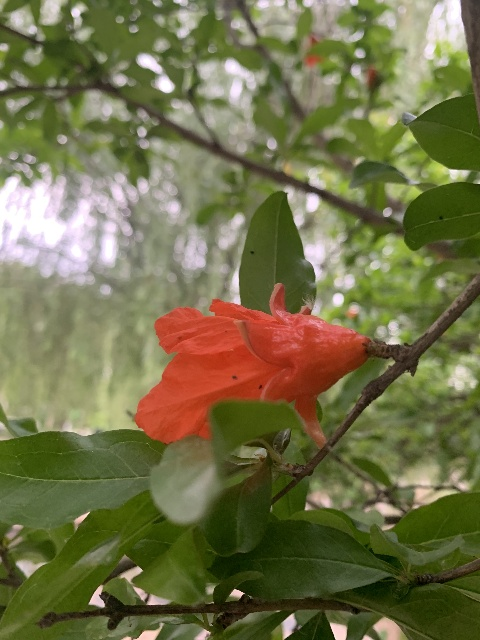flower: (136, 282, 372, 450)
